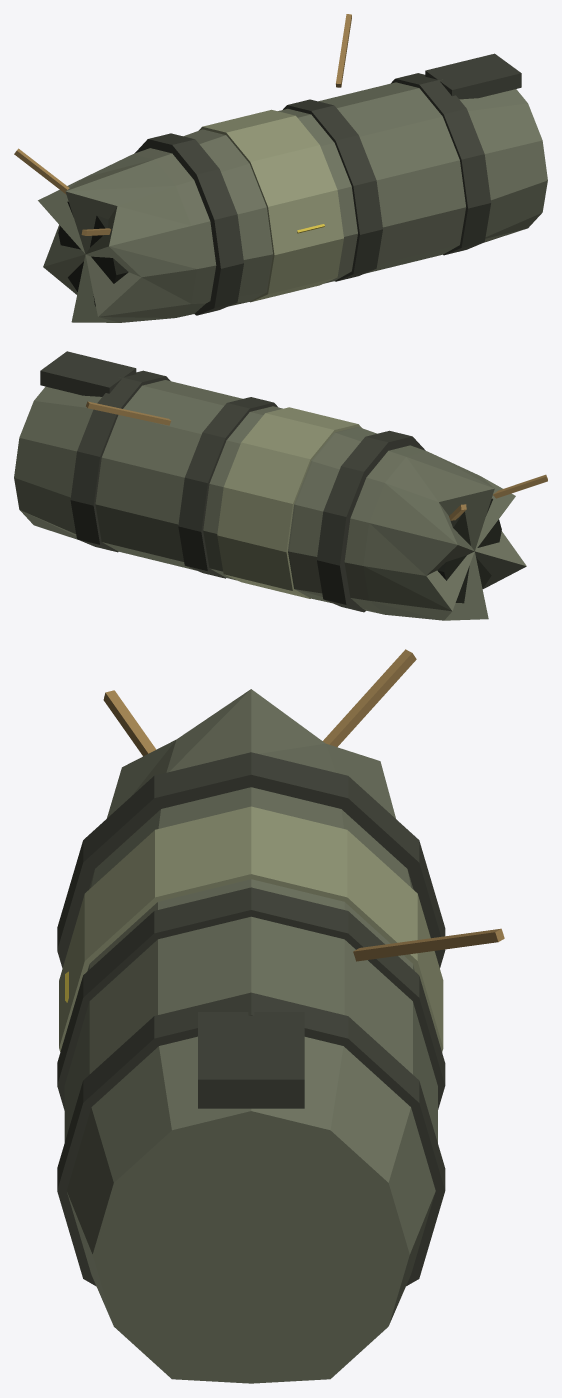
Rendered from shippart_defoliator.obj.
3 renders of one model, top to bottom at view 1: azimuth 30°, elevation 25°; view 2: azimuth 150°, elevation 25°; view 3: azimuth 270°, elevation 25°, orthographic. The views are drawn at different scales.
Visible parts, largest first — view 1: shippart_defoliator; view 2: shippart_defoliator; view 3: shippart_defoliator.
Boxes of the visible parts, bbox=[...] form: shippart_defoliator: bbox=[14, 14, 547, 322]; shippart_defoliator: bbox=[14, 351, 547, 620]; shippart_defoliator: bbox=[57, 649, 504, 1383].
Size of the model in its own units: 5.97 by 2.23 by 2.52.
